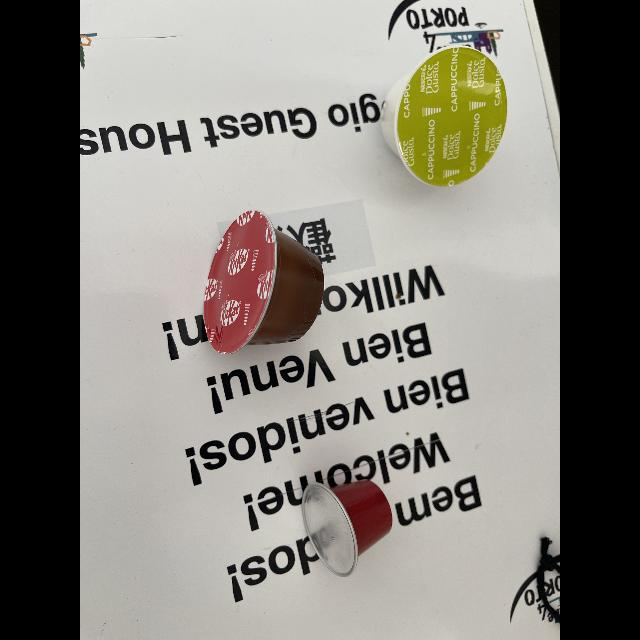intact_capsule: (194, 201, 342, 369), (368, 39, 518, 201), (292, 462, 404, 586)
